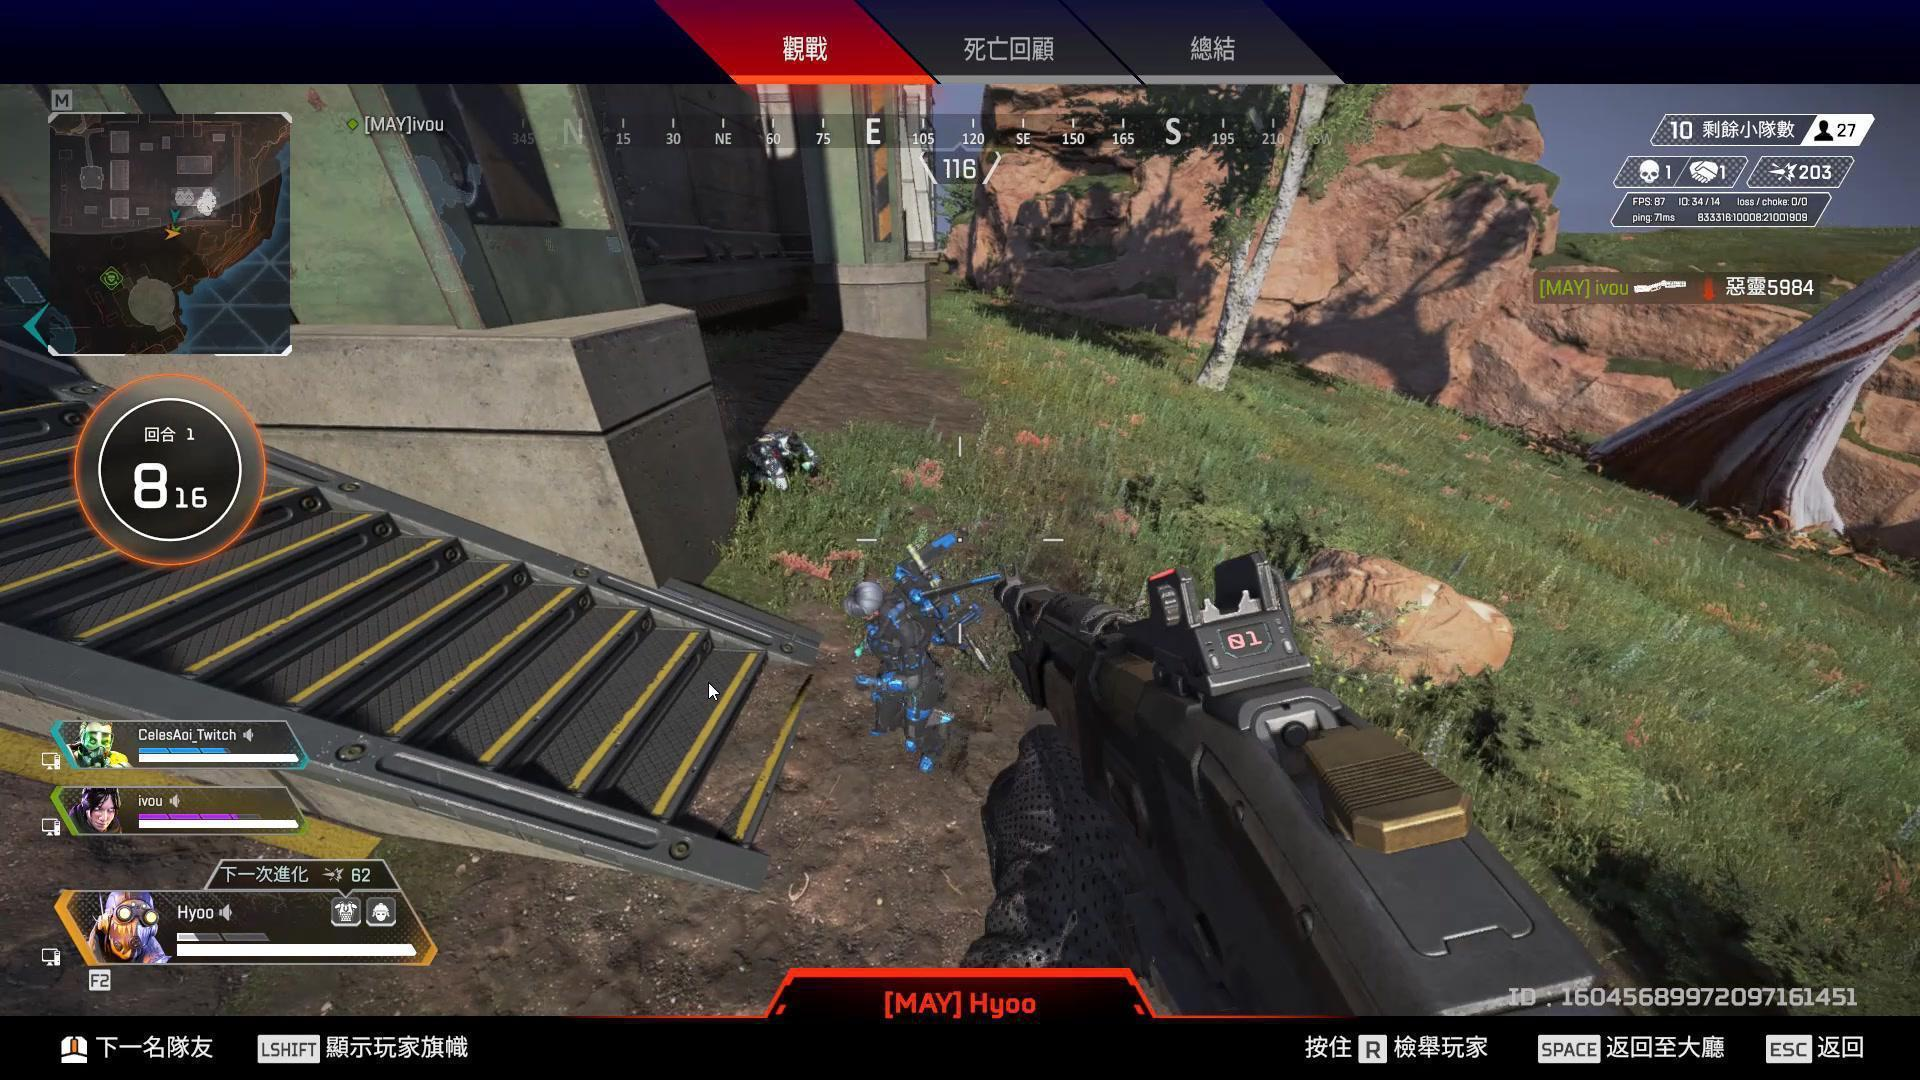avatar: (840, 572, 951, 775)
